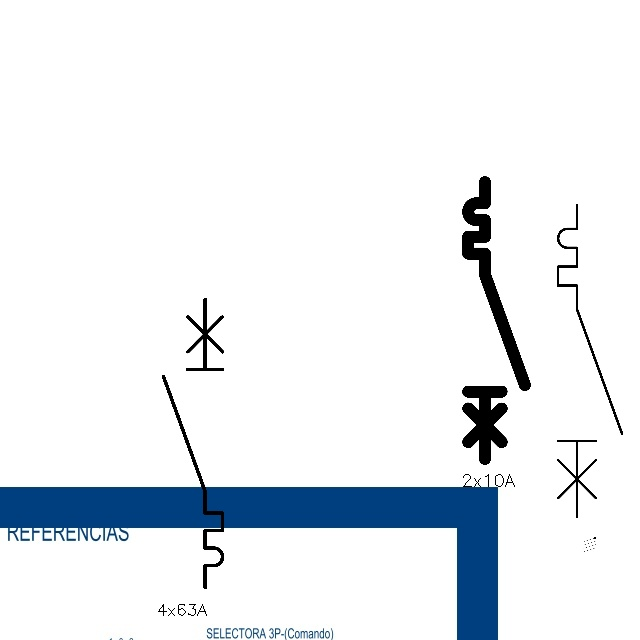interruptor_termomagnetico: (550, 197, 630, 524), (156, 292, 230, 595), (461, 175, 532, 466)
